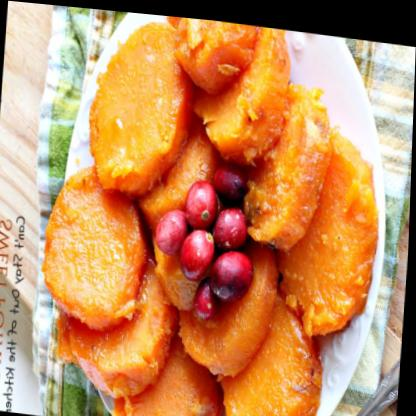sweetpotato: (235, 64, 387, 359), (29, 151, 154, 352), (79, 28, 186, 229), (208, 293, 321, 416)
